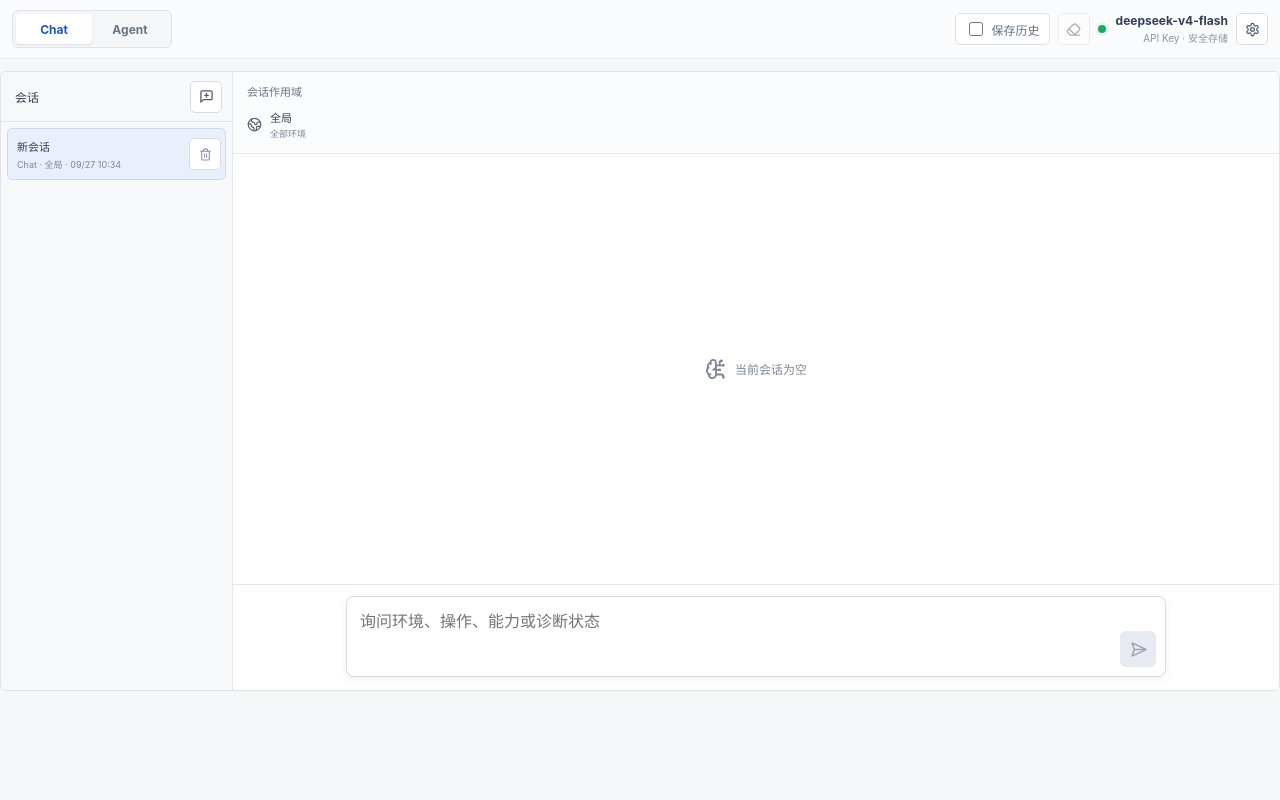
Scenario: AiPage › fixes the MCP scope when each conversation is created
Expected: the element named "AI 会话作用域" shows "全局", [270, 110, 292, 124]
Expected: the element named "AI 会话作用域" shows "全部环境", [270, 128, 306, 138]
Click the button named "新建会话" at (206, 96), box [190, 80, 222, 112]
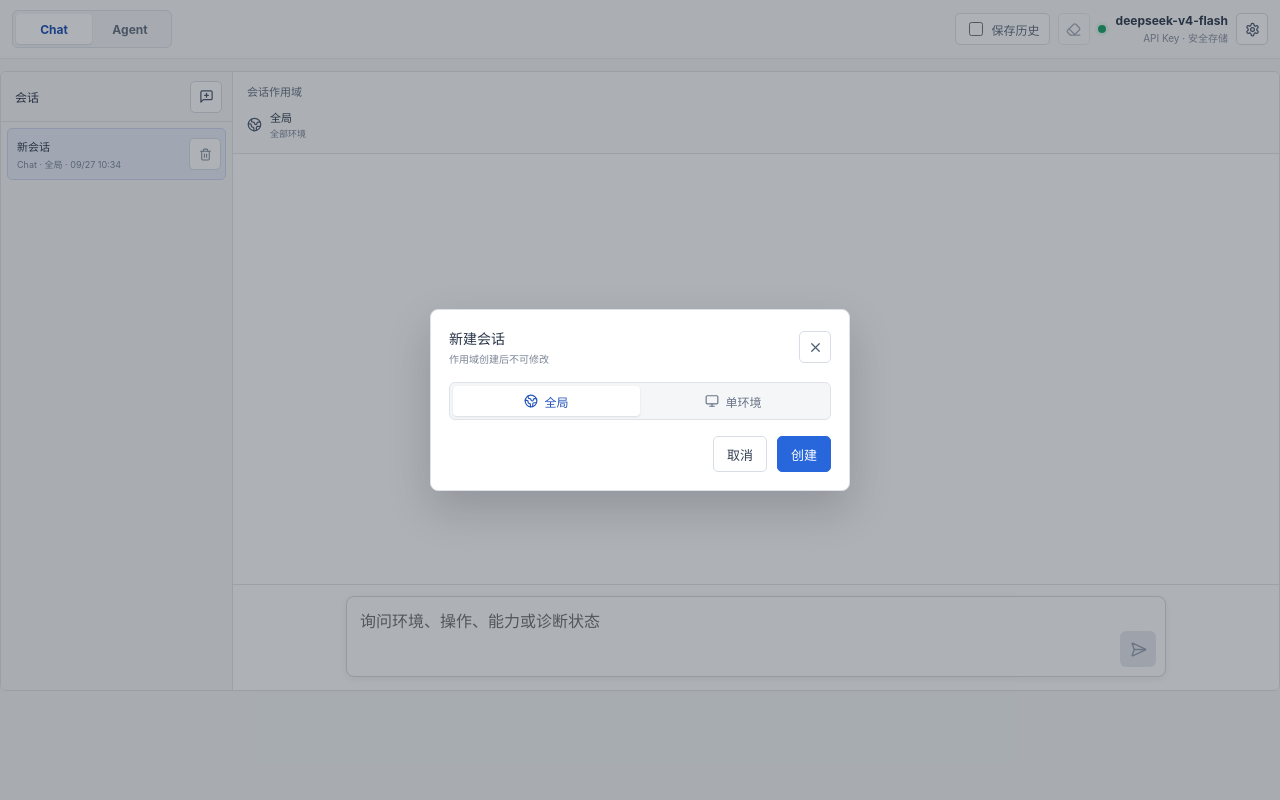
Click the button "单环境" at (734, 401), box [640, 386, 827, 416]
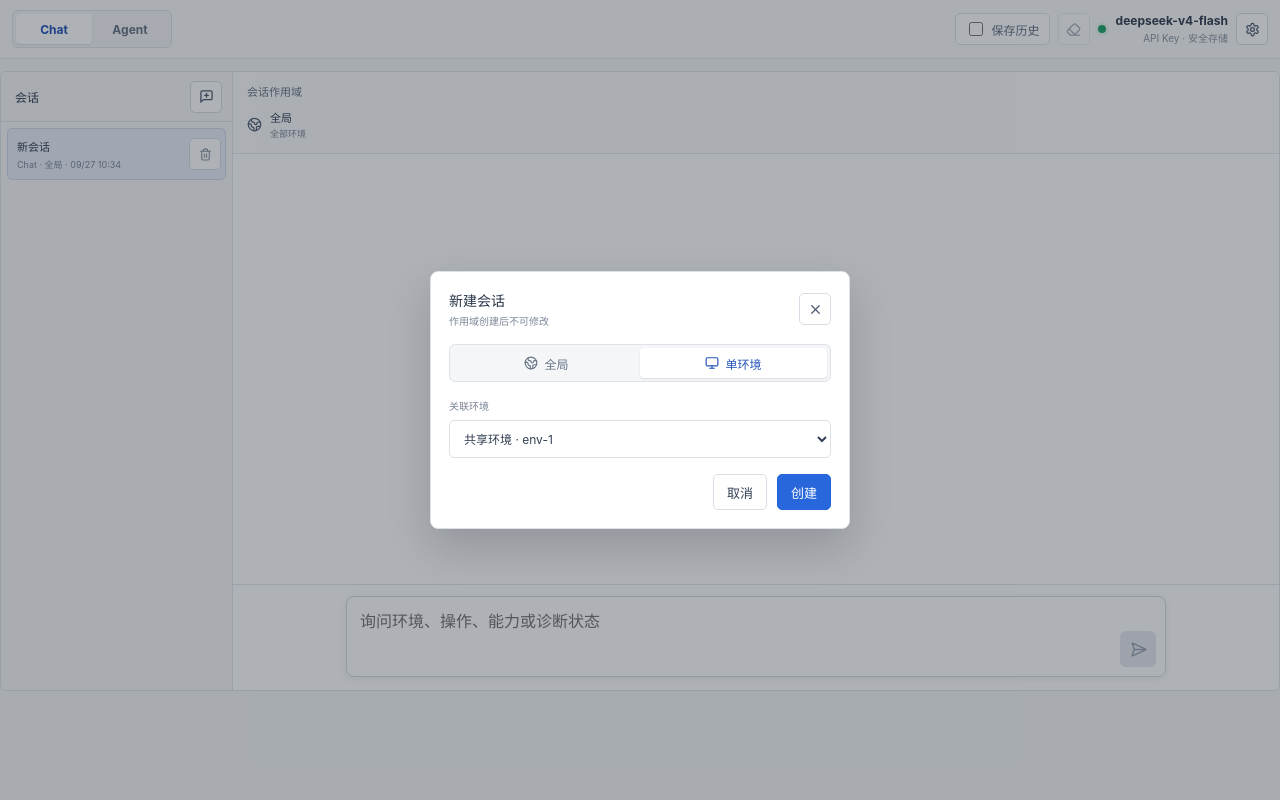
Select "共享环境 · env-1" in the dropdown named "新会话关联环境" at (640, 439), box [449, 420, 831, 458]
Click the button "创建" at (804, 492), box [777, 474, 831, 510]
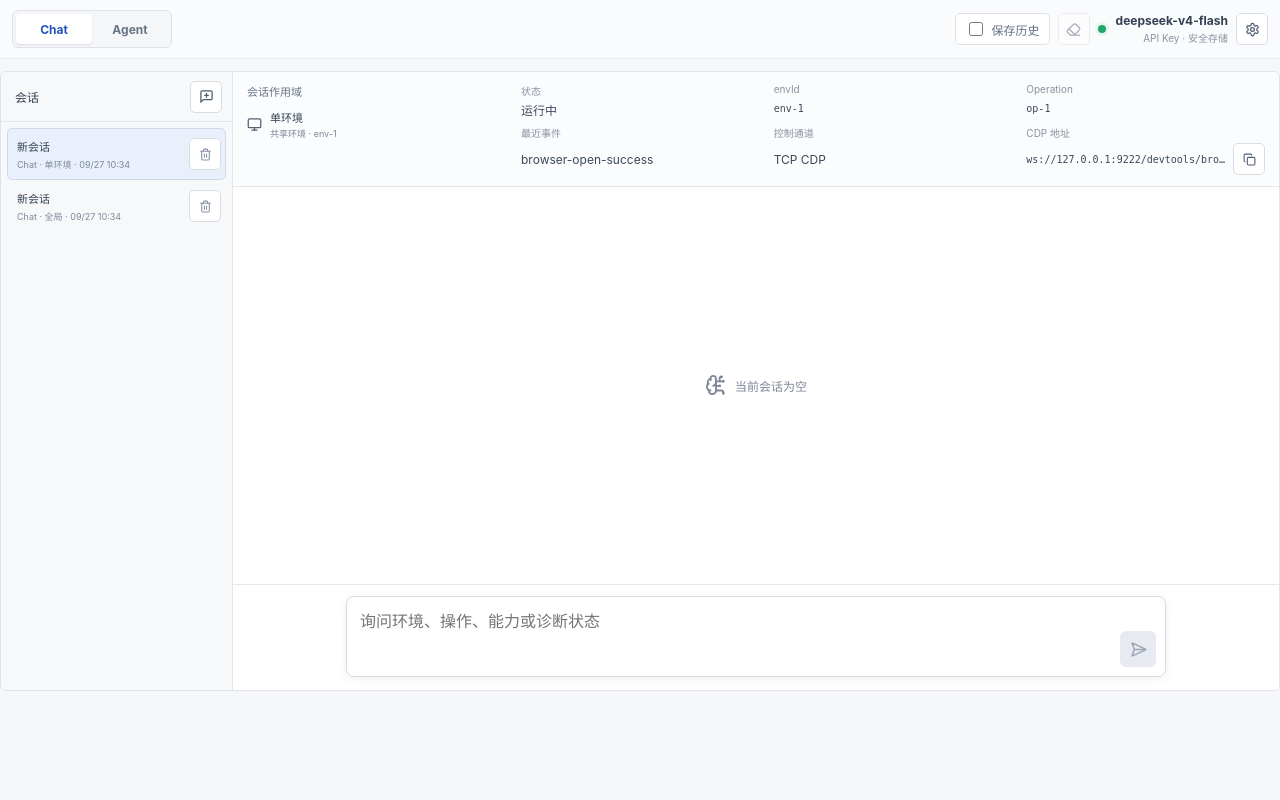
Expected: the element named "AI 会话作用域" shows "单环境", [270, 110, 303, 124]
Expected: the element named "AI 会话作用域" shows "共享环境 · env-1", [270, 128, 337, 138]
Expected: the dropdown labelled "新会话关联环境" is gone
Click the button named "新建会话" at (206, 96), box [190, 80, 222, 112]
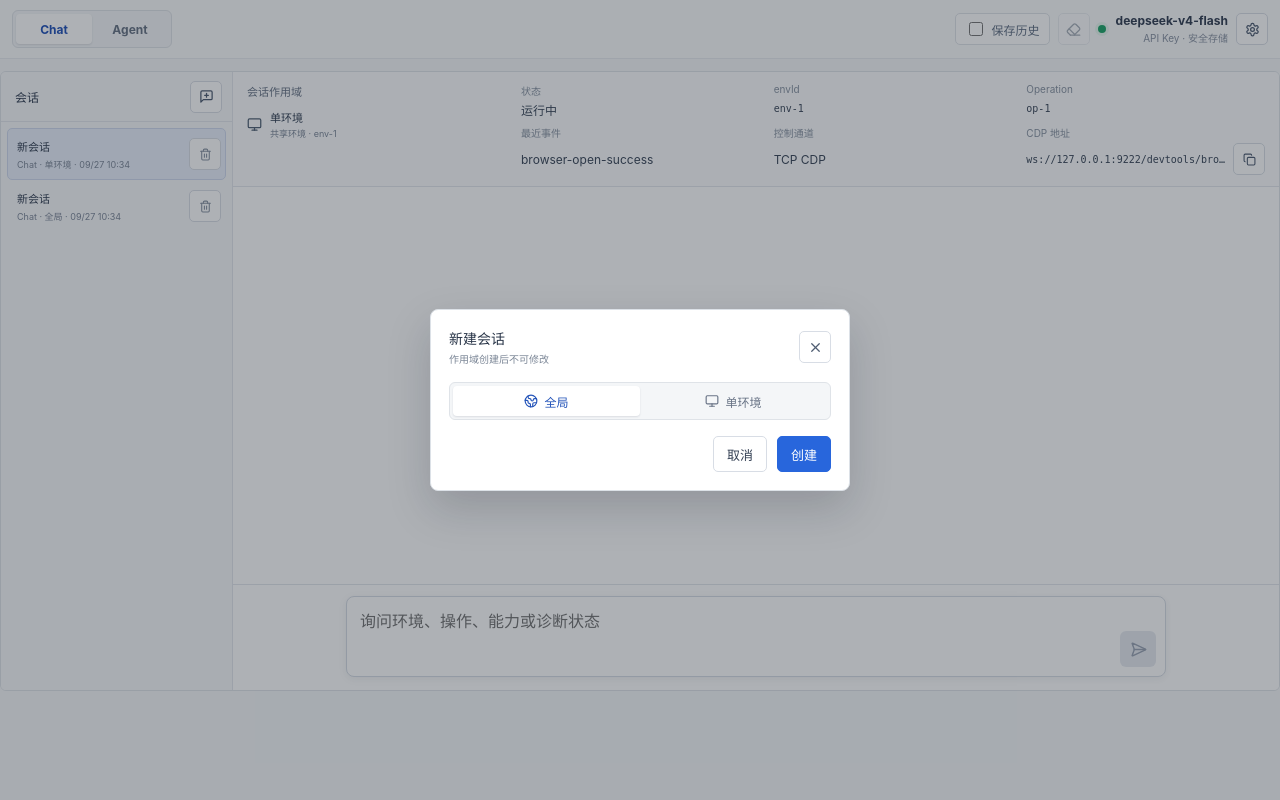
Click the button "创建" at (804, 454), box [777, 436, 831, 472]
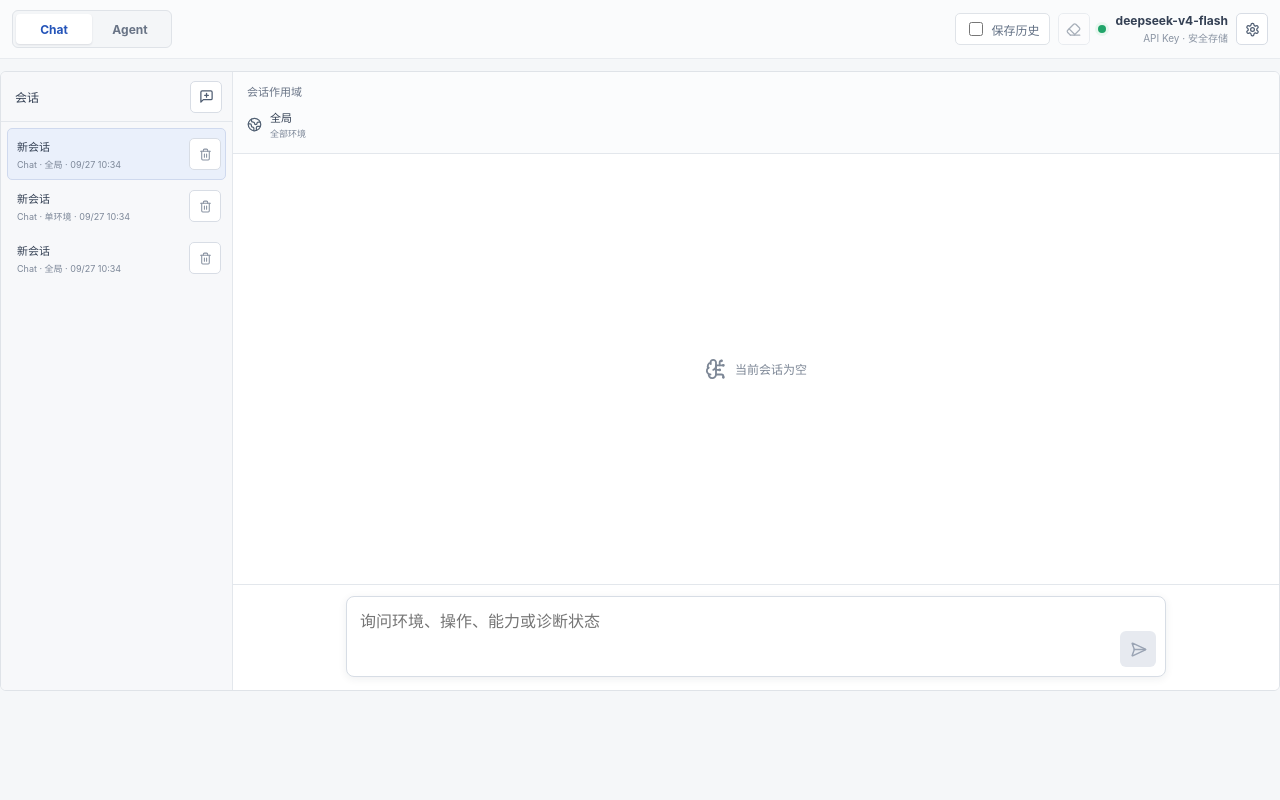
Expected: the element named "AI 会话作用域" shows "全局", [270, 110, 292, 124]
Click the button with class "ai-conversation-select" showing "新会话 Chat · 单环境 · 09/27 10:34" at (98, 206), box [8, 182, 189, 230]
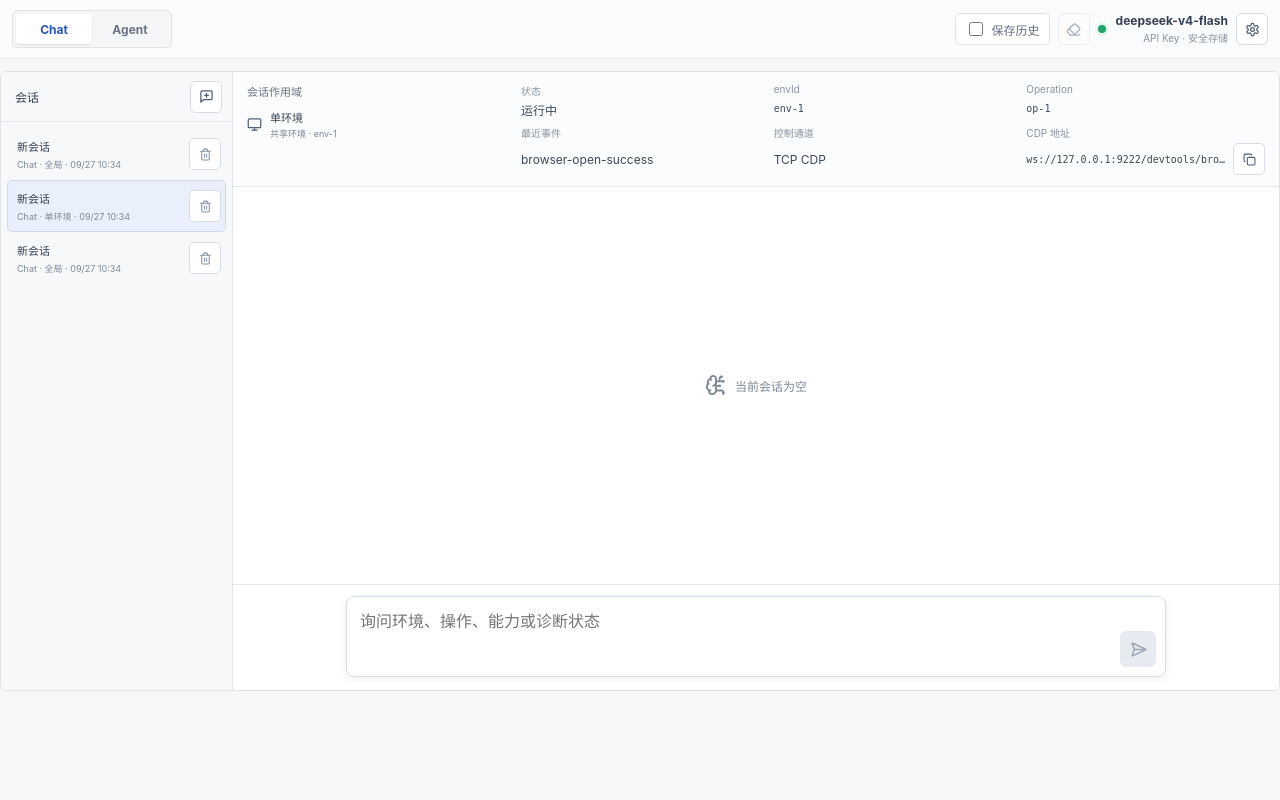
Expected: the element named "AI 会话作用域" shows "共享环境 · env-1", [270, 128, 337, 138]
